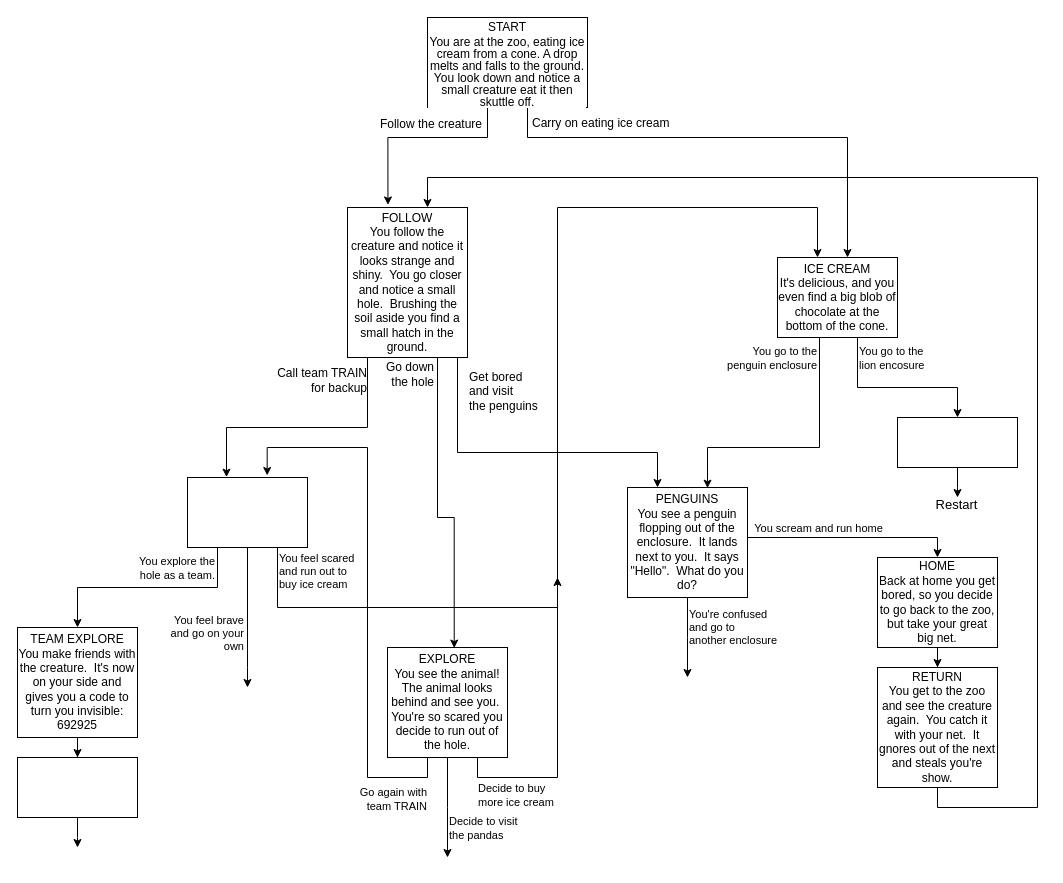
Image size: 1063x883. Some labels were removed from this diagram. The box of each missing label's shape, as (x1, y1, x2, y2) in pixels:
BACKUP Team TRAIN arrives! You go down the hole together to explore it.: (186, 476, 308, 548)
LIONS After that you decide to go home: (896, 416, 1018, 468)
MACHINE You find a machine and put the code in. You are now invisible: (16, 756, 138, 818)
